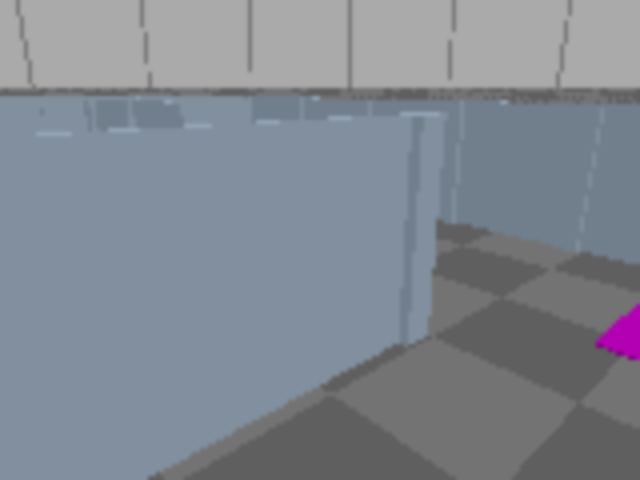goal_zone: (594, 295, 638, 437)
